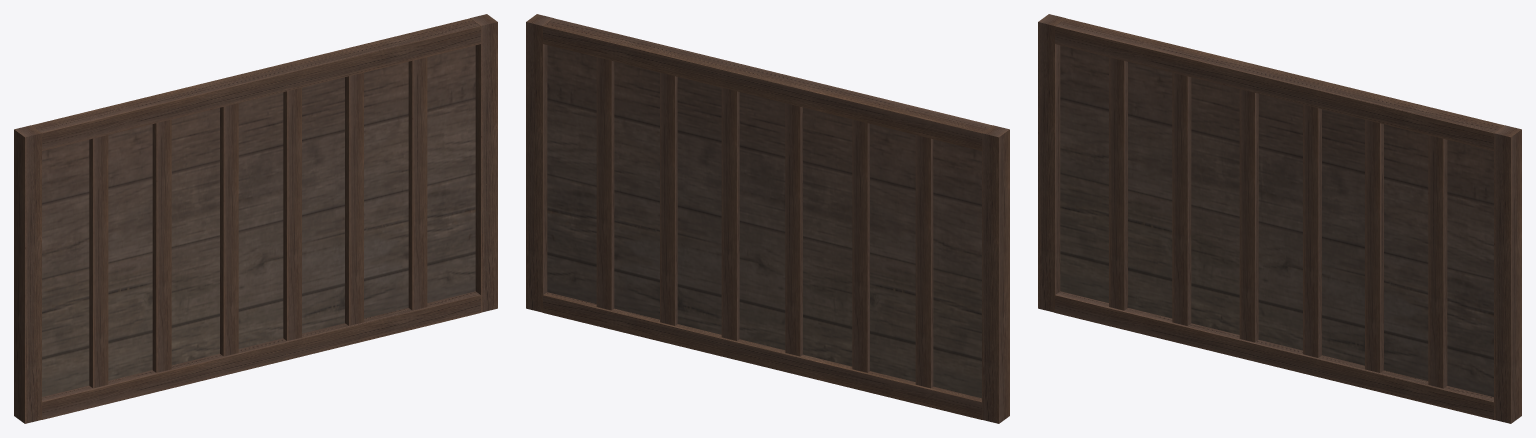
The model's file is window_a01.fbx.
3 renders of one model, left to right at view 1: azimuth 30°, elevation 25°; view 2: azimuth 150°, elevation 25°; view 3: azimuth 330°, elevation 25°, orthographic.
Visible parts, largest first — view 1: window_a01; view 2: window_a01; view 3: window_a01.
Part boxes in pixels (left/top/right/bottom): window_a01: left=14, top=14, right=497, bottom=423; window_a01: left=526, top=14, right=1009, bottom=423; window_a01: left=1038, top=14, right=1521, bottom=423.
Bounding box in the file's own units: 123 × 71.11 × 4.9.
